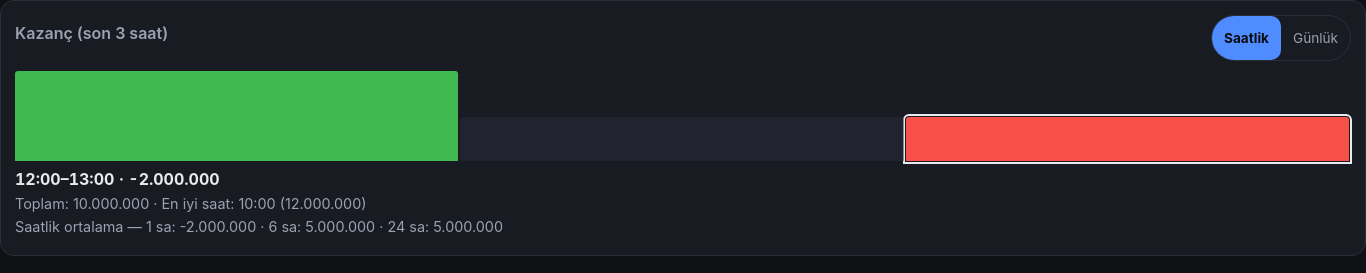
Scenario: IncomeChart › switches to the daily view
Click the button "Günlük".
click(1316, 38)  # box [1281, 16, 1350, 60]
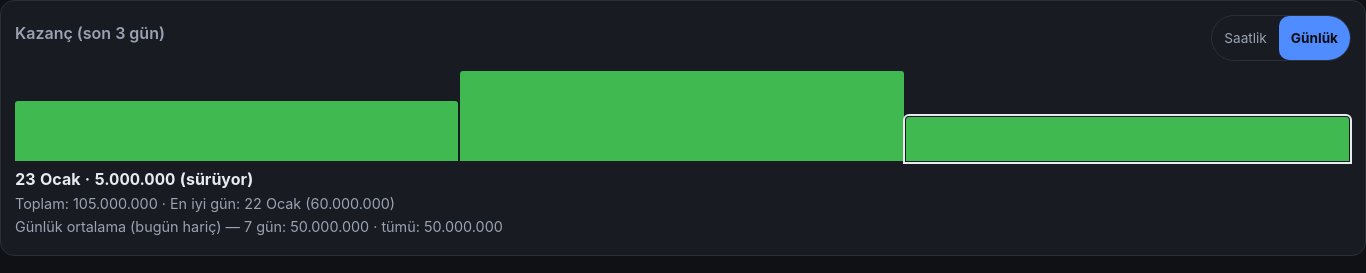
Expected: the number of buttons with class "bar" is 3, [15, 101, 458, 161]; [460, 71, 904, 161]; [906, 117, 1349, 161]
Expected: the heading "Kazanç (son 3 gün)" is shown, [15, 23, 165, 43]
Expected: the text "Toplam: 105.000.000" is shown, [15, 195, 395, 212]
